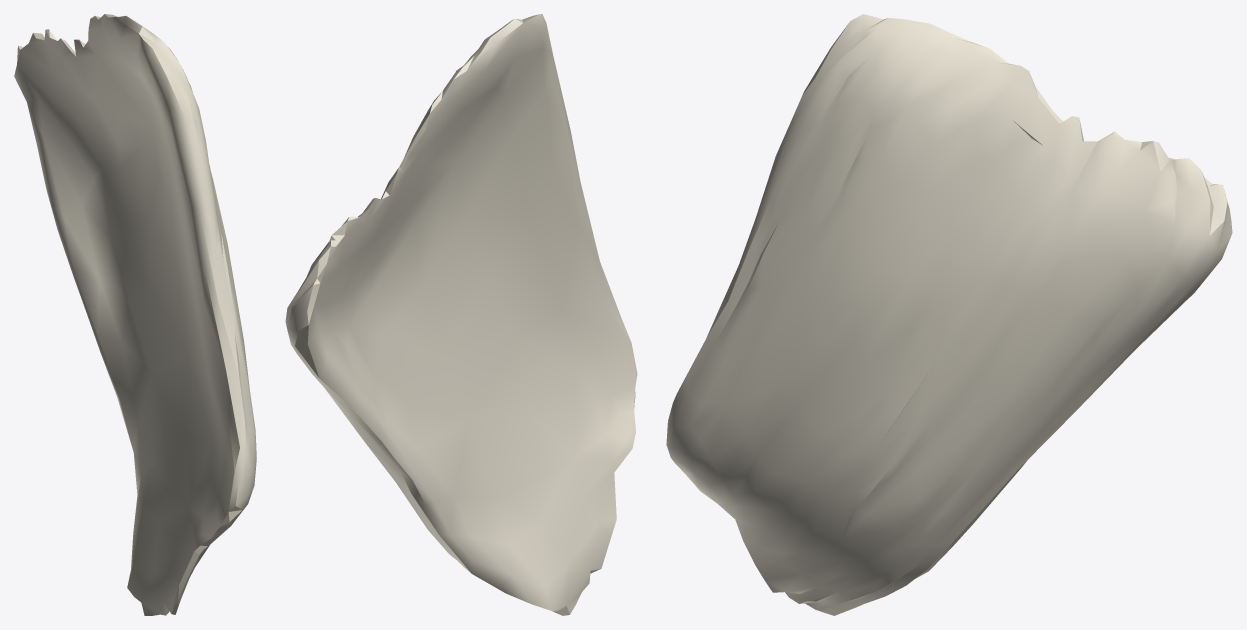
Rendered from fma321711-r_mm1491m.glb.
The picture shows the model from 3 angles, left to right: view 1: azimuth 30°, elevation 25°; view 2: azimuth 150°, elevation 25°; view 3: azimuth 270°, elevation 25°; orthographic projection. The views are drawn at different scales.
Parts seen in each view (by area): view 1: FMA321711-R_MM1491M; view 2: FMA321711-R_MM1491M; view 3: FMA321711-R_MM1491M.
Boxes of the visible parts, x1=… form: FMA321711-R_MM1491M: x1=14, y1=14, x2=256, y2=615; FMA321711-R_MM1491M: x1=285, y1=14, x2=637, y2=615; FMA321711-R_MM1491M: x1=666, y1=14, x2=1232, y2=615.
Bounding box in the file's own units: 0.00345 × 0.0182 × 0.0154.
